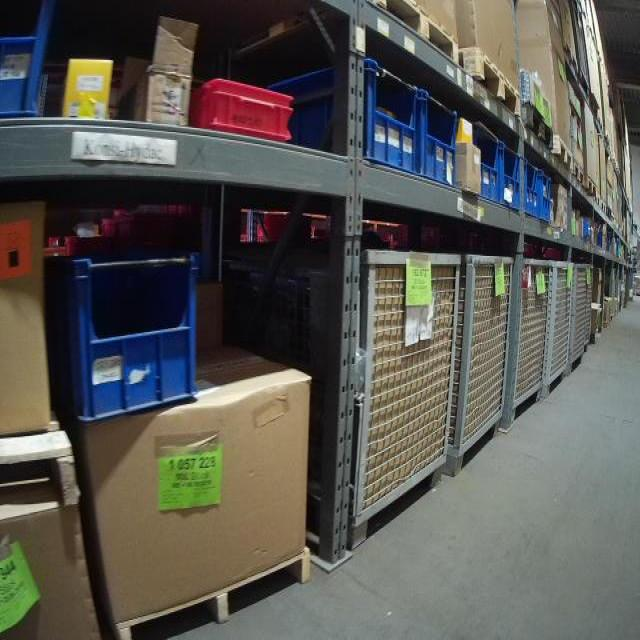pallet: (115, 543, 312, 636), (360, 2, 463, 70), (2, 425, 78, 511), (460, 43, 526, 123), (525, 103, 557, 154), (553, 135, 575, 177), (584, 176, 600, 206), (572, 159, 587, 187)
small_load_carrier: (64, 250, 203, 427), (266, 54, 419, 176), (190, 76, 298, 143), (2, 2, 62, 114), (417, 82, 459, 192), (468, 117, 500, 208), (500, 139, 523, 213), (520, 156, 541, 222), (541, 170, 554, 225)
stillage: (290, 231, 464, 557), (439, 248, 520, 483), (498, 254, 558, 435), (538, 257, 576, 404), (567, 2, 592, 103), (567, 262, 587, 375), (582, 260, 597, 356)
